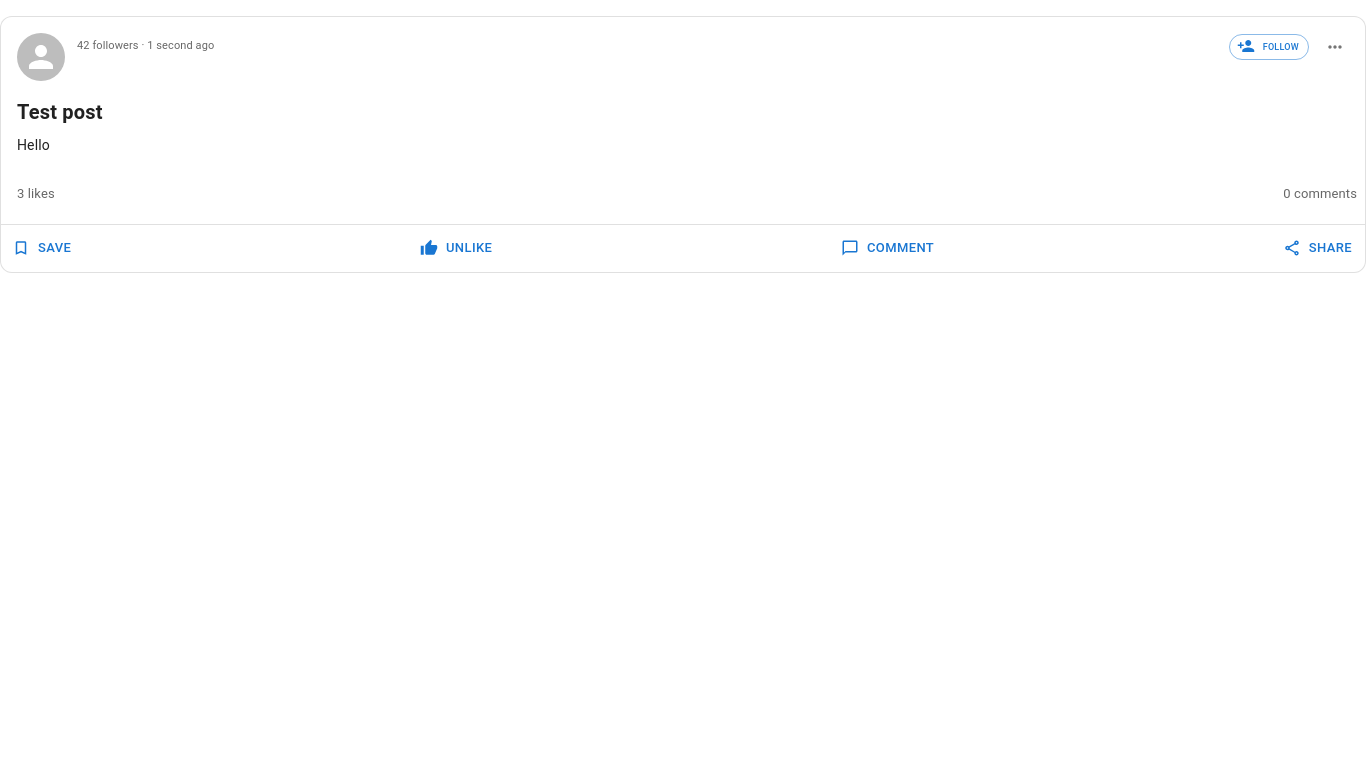
Test: CardItem — likes count clickability › clicking the likes count opens LikesModal
Click the button with aria-label "view 3 likes".
click(32, 194)  # box [9,172,55,216]
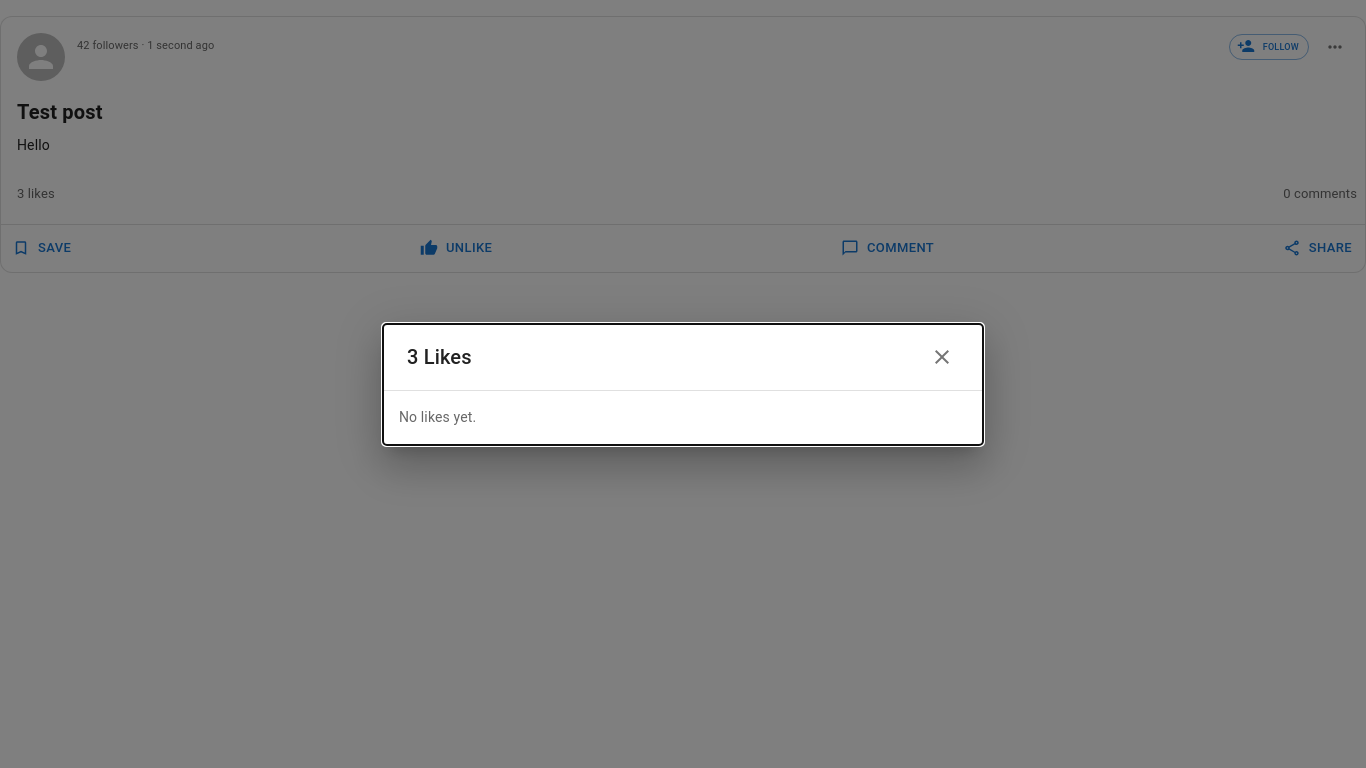
Check: the dialog is shown, box [383,324,983,444]
